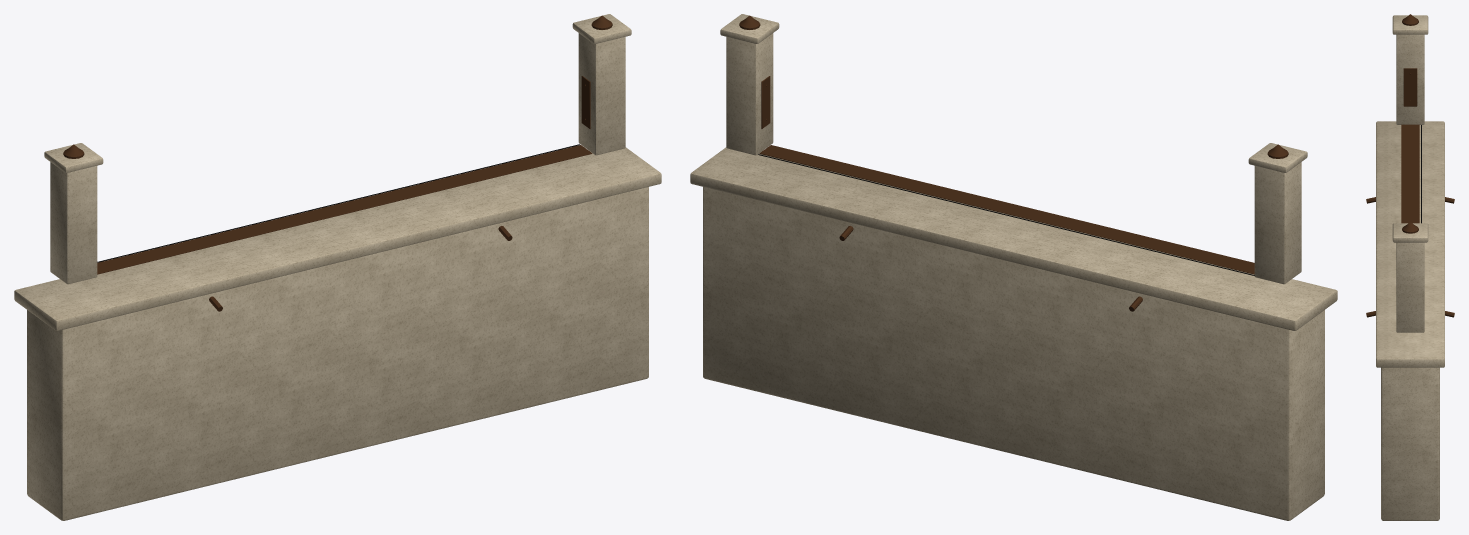
File: bridge-abutment-observatory.lod0.glb
3 views of the same model, side by side, from view 1: azimuth 30°, elevation 25°; view 2: azimuth 150°, elevation 25°; view 3: azimuth 270°, elevation 25° (orthographic). The views are drawn at different scales.
Parts seen in each view (by area): view 1: bridge_abutment_observatory_Stone • warm limestone, bridge_abutment_observatory_Trim • places palette; view 2: bridge_abutment_observatory_Stone • warm limestone, bridge_abutment_observatory_Trim • places palette; view 3: bridge_abutment_observatory_Stone • warm limestone, bridge_abutment_observatory_Trim • places palette.
Part boxes in pixels (x1=…): bridge_abutment_observatory_Stone • warm limestone: x1=14, y1=14, x2=661, y2=520; bridge_abutment_observatory_Trim • places palette: x1=63, y1=15, x2=612, y2=311; bridge_abutment_observatory_Stone • warm limestone: x1=690, y1=14, x2=1337, y2=520; bridge_abutment_observatory_Trim • places palette: x1=739, y1=15, x2=1288, y2=311; bridge_abutment_observatory_Stone • warm limestone: x1=1376, y1=15, x2=1444, y2=520; bridge_abutment_observatory_Trim • places palette: x1=1366, y1=14, x2=1454, y2=317.
Size of the model in its own units: 6.7 by 3.78 by 1.05.
Materials: 2 (2 with a texture image).
